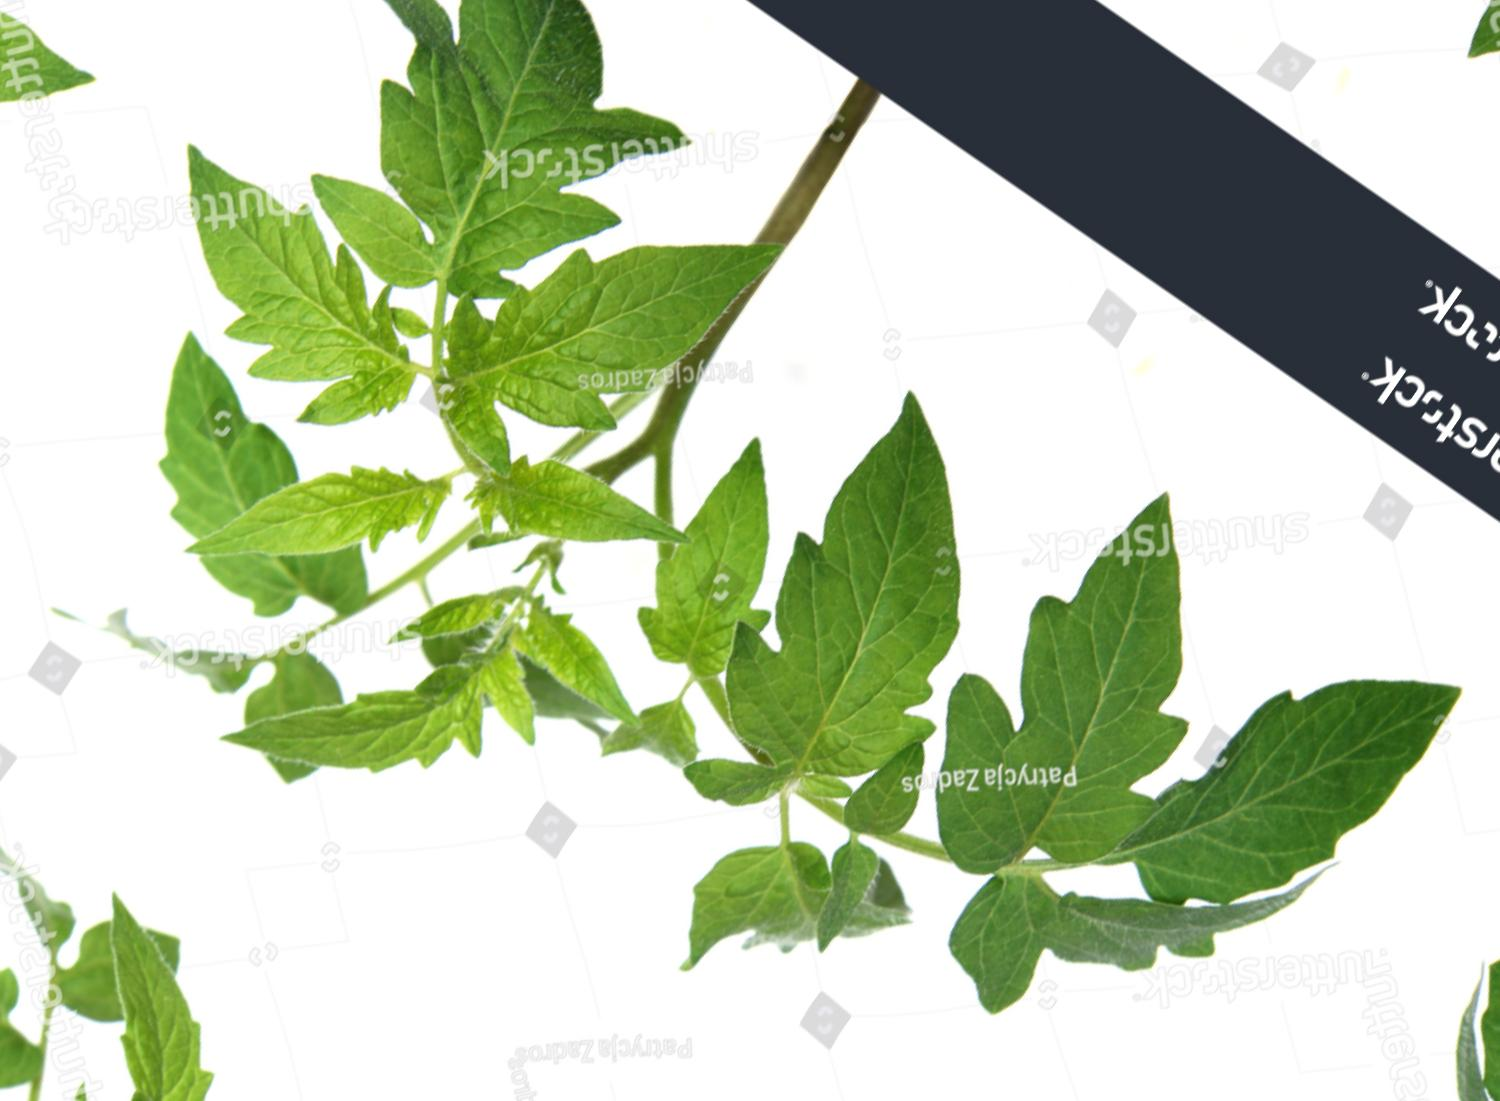Tomato leaf: (799, 320, 1358, 934), (613, 324, 1090, 862), (49, 38, 521, 484), (1057, 545, 1485, 1014), (235, 0, 721, 369), (232, 467, 628, 891), (153, 313, 526, 703), (433, 134, 780, 506)
